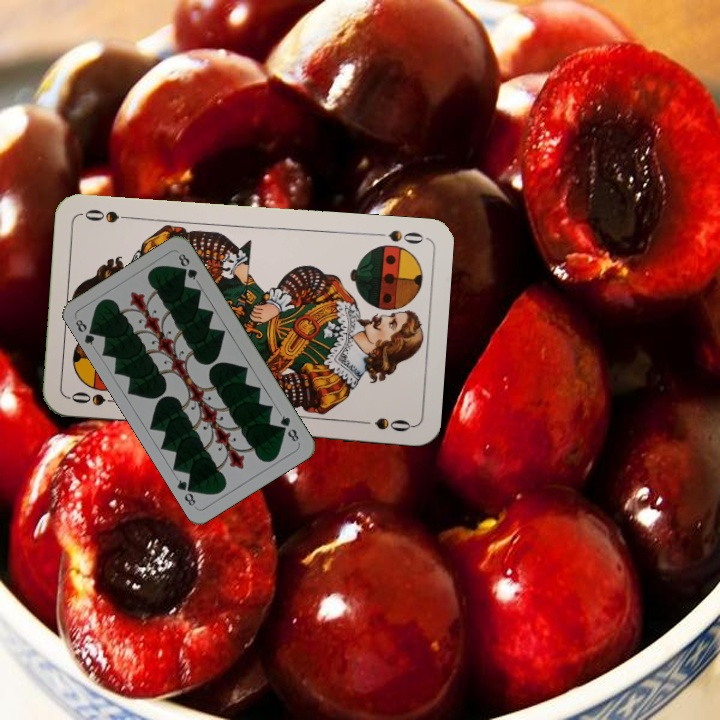G8: (71, 315, 100, 348), (276, 411, 302, 445)
SO: (66, 388, 126, 408), (369, 226, 426, 246)
